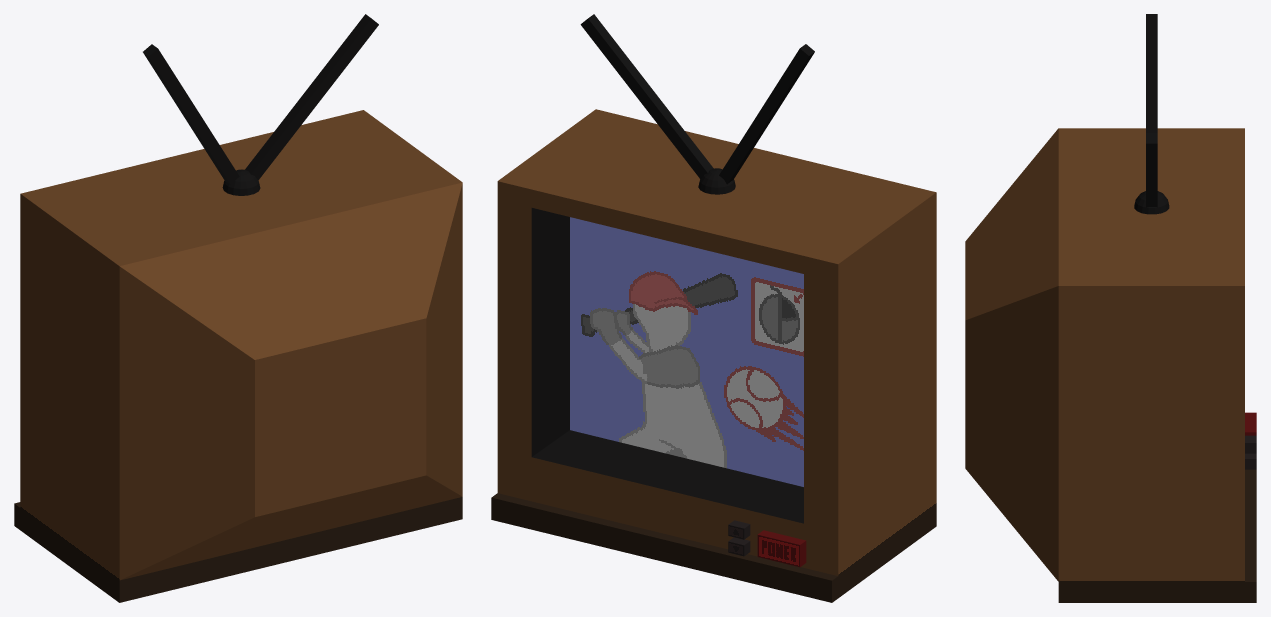
The model's file is SportTV.gltf.
3 views of the same model, side by side, from view 1: azimuth 30°, elevation 25°; view 2: azimuth 150°, elevation 25°; view 3: azimuth 270°, elevation 25° (orthographic). The views are drawn at different scales.
Visible parts, largest first — view 1: cuboid; view 2: cuboid; view 3: cuboid.
Part boxes in pixels (left/top/right/bottom): cuboid: left=14, top=14, right=462, bottom=602; cuboid: left=491, top=14, right=936, bottom=602; cuboid: left=965, top=14, right=1256, bottom=602.
Bounding box in the file's own units: 2 × 2.78 × 1.56.
Materials: 1 (1 with a texture image).
